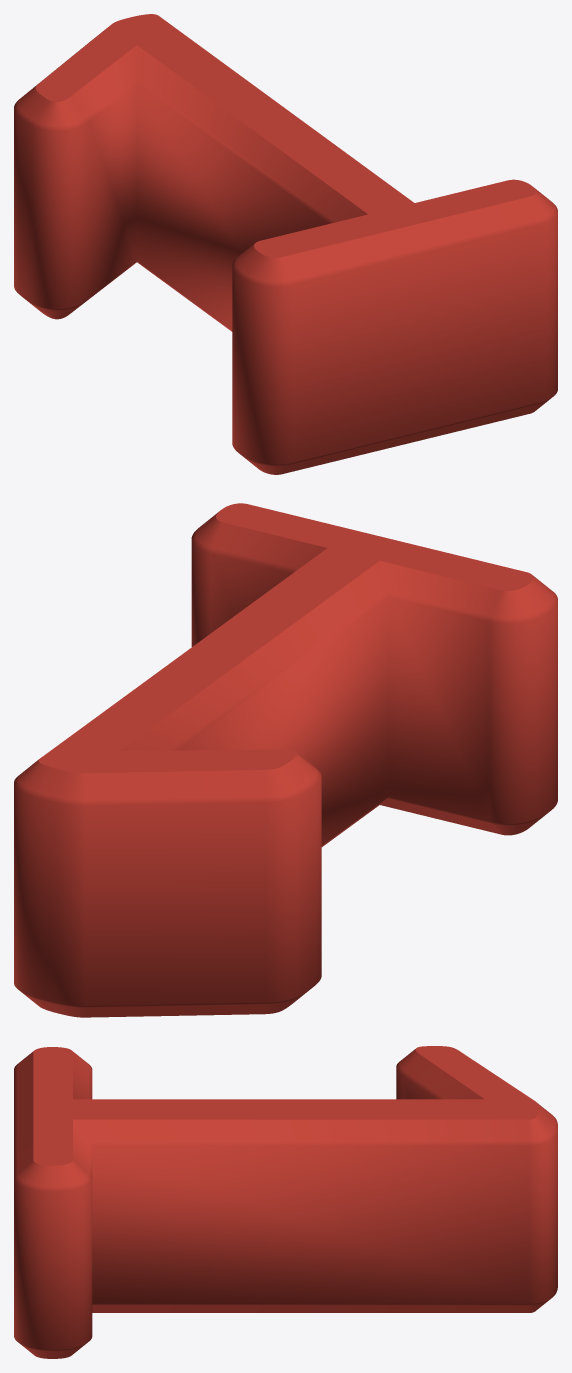
File: one.obj
3 renders of one model, top to bottom at view 1: azimuth 30°, elevation 25°; view 2: azimuth 150°, elevation 25°; view 3: azimuth 270°, elevation 25°, orthographic. The views are drawn at different scales.
Parts seen in each view (by area): view 1: suji; view 2: suji; view 3: suji.
Boxes of the visible parts, <box> form: suji: <box>14,14,557,474</box>; suji: <box>14,503,557,1017</box>; suji: <box>14,1046,557,1358</box>.
Bounding box in the file's own units: 0.3316 × 0.22 × 0.5608.
1 material, 1 textured.
